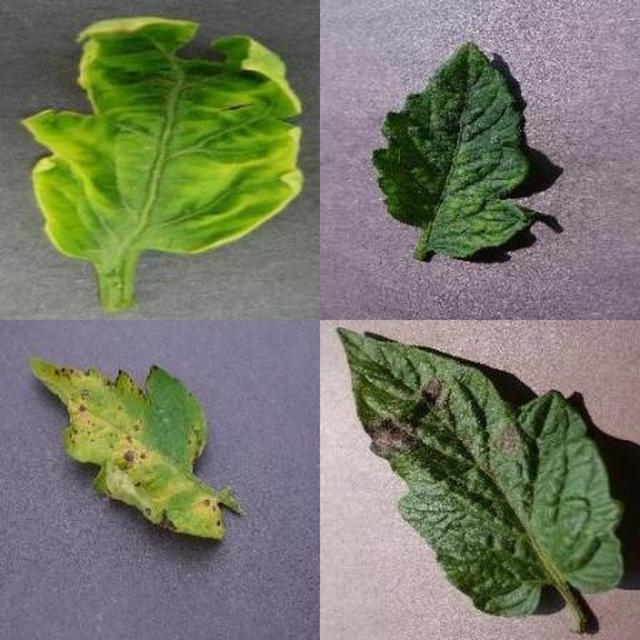Yellow Leaf Curl Virus: (182, 200, 640, 640)
